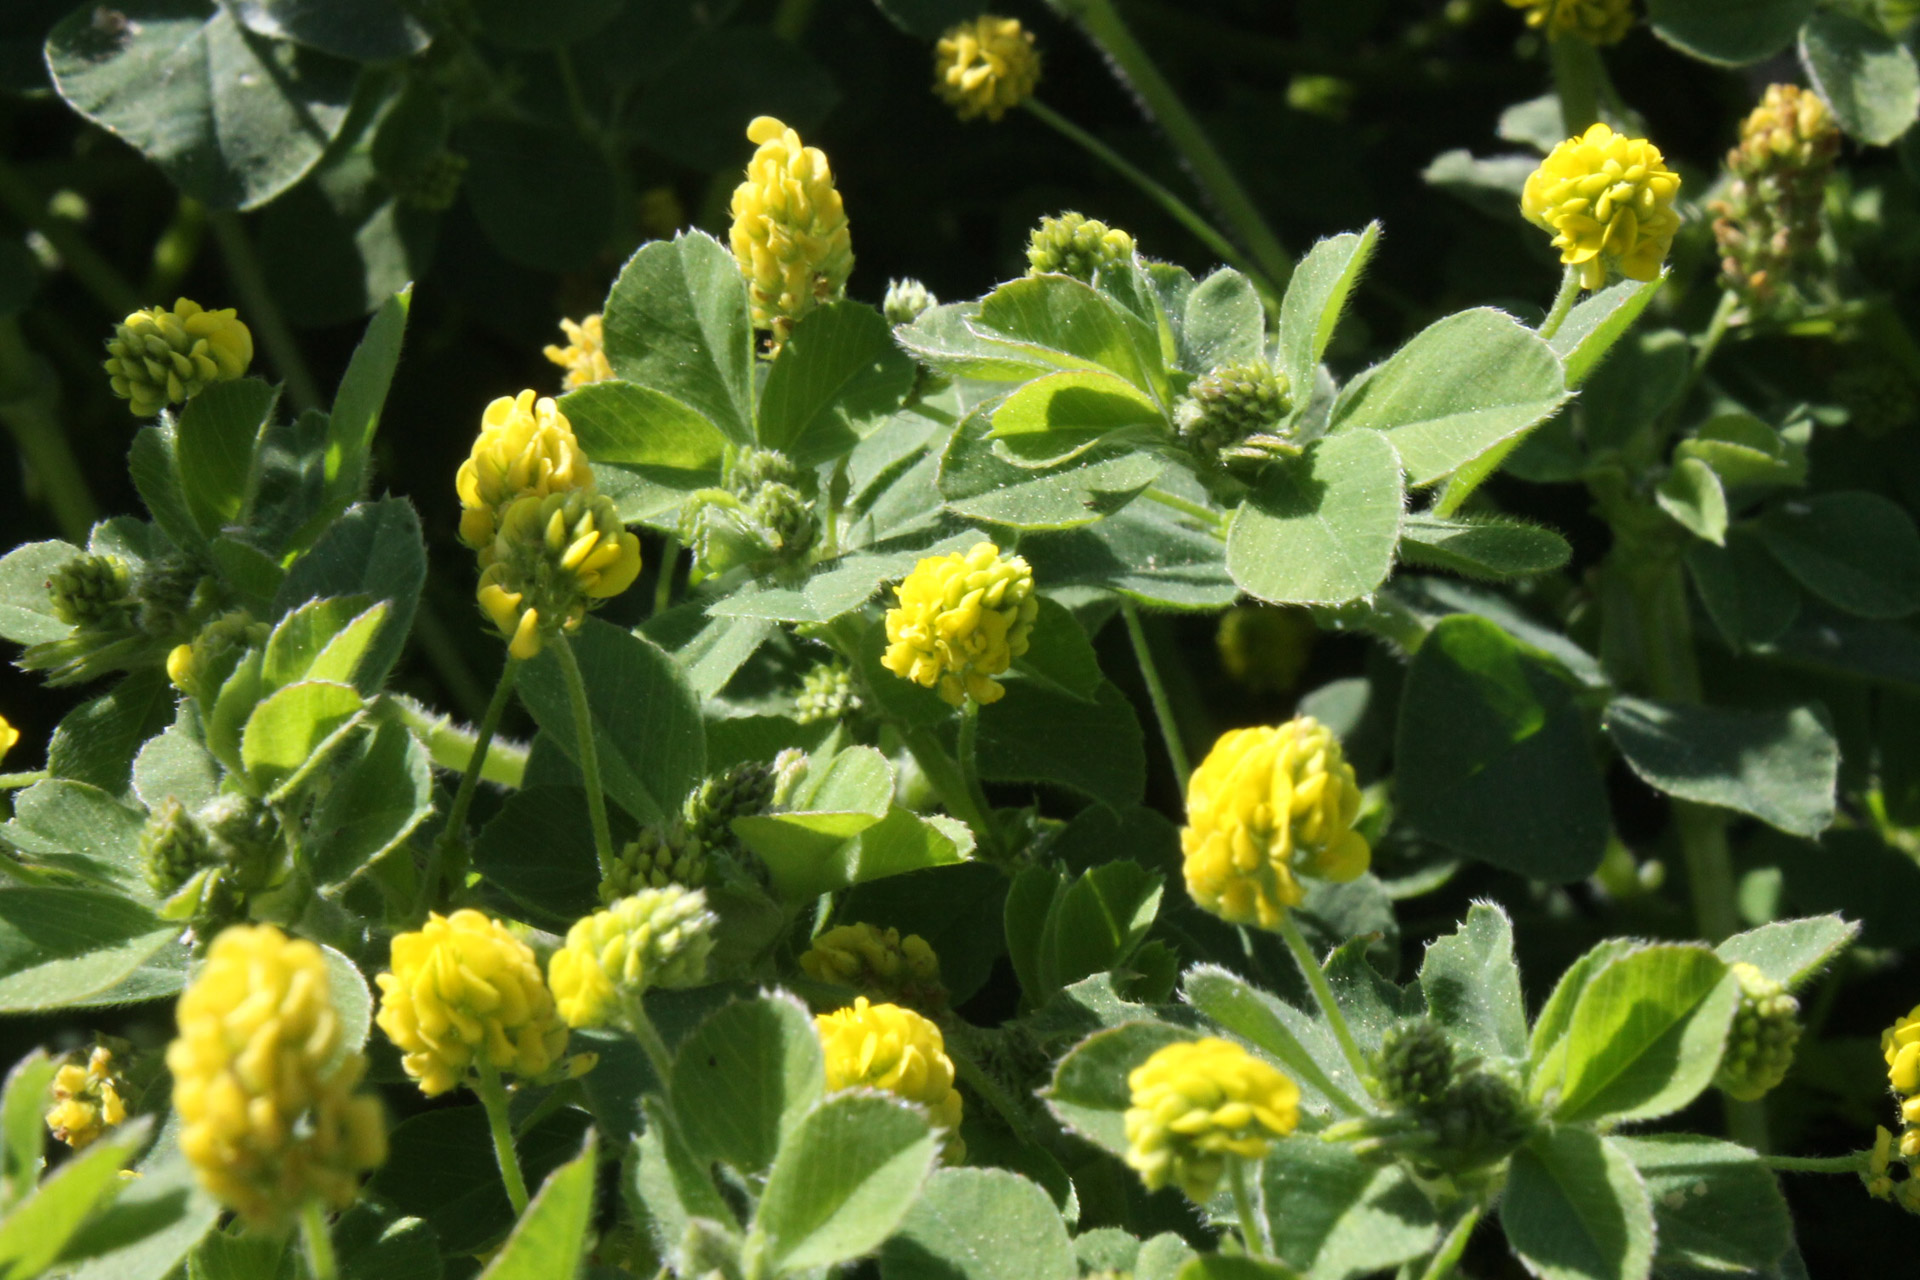clover: (67, 91, 1830, 1259)
